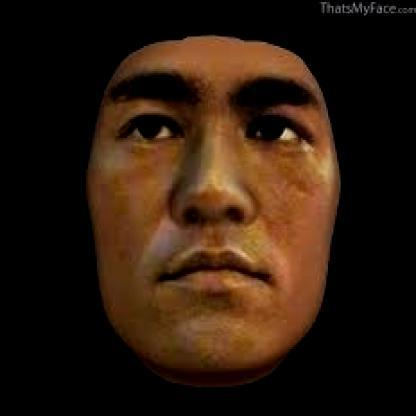without_mask: (120, 88, 325, 347)
